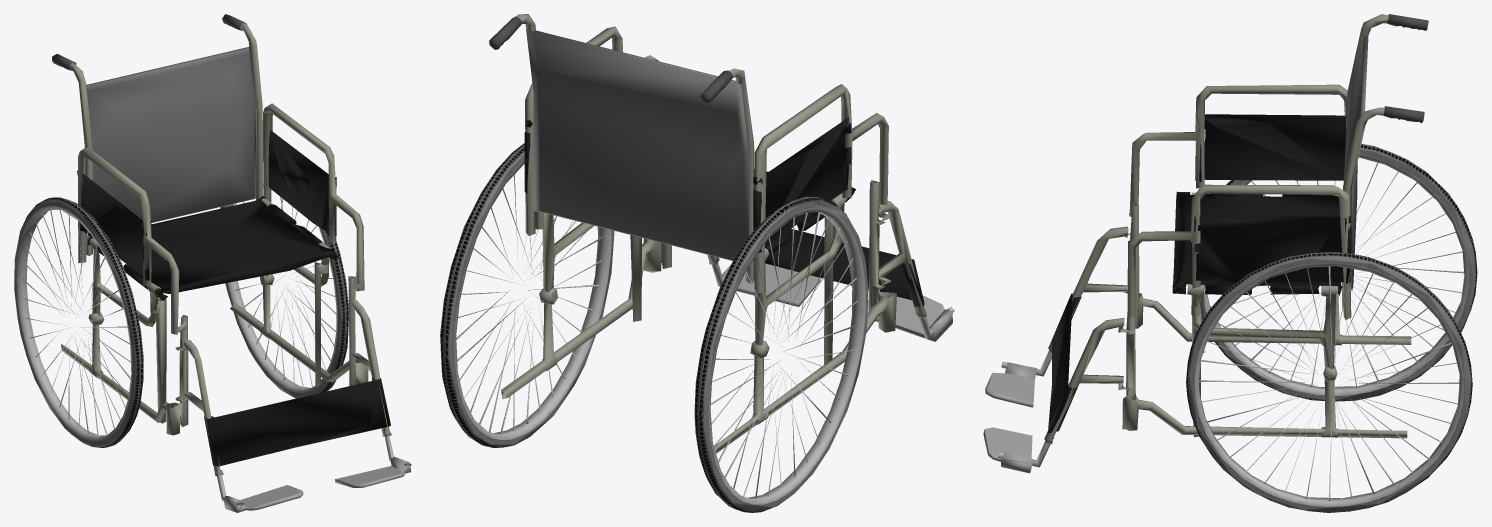
The model's file is wheel_chair.dae.
The picture shows the model from 3 angles, left to right: view 1: azimuth 30°, elevation 25°; view 2: azimuth 150°, elevation 25°; view 3: azimuth 270°, elevation 25°; orthographic projection. The views are drawn at different scales.
Visible parts, largest first — view 1: seatskin, backseat, bodyframe, rim, tyre, tyre2, pad2, pad1; view 2: backseat, bodyframe, rim, seatskin, tyre, tyre2, pad2, pad1, handle; view 3: seatskin, bodyframe, rim, tyre2, tyre, backseat, pad1, pad2, handle.
Boxes of the visible parts, <box> form: seatskin: <box>77,130,390,466</box>; backseat: <box>84,47,255,222</box>; bodyframe: <box>61,23,391,476</box>; rim: <box>16,159,411,506</box>; tyre: <box>14,197,143,447</box>; tyre2: <box>220,206,348,398</box>; pad2: <box>223,485,303,512</box>; pad1: <box>335,456,411,487</box>; backseat: <box>526,29,748,260</box>; bodyframe: <box>501,14,926,453</box>; rim: <box>454,160,954,504</box>; seatskin: <box>524,117,924,306</box>; tyre: <box>694,196,868,512</box>; tyre2: <box>440,143,614,447</box>; pad2: <box>867,295,952,341</box>; pad1: <box>722,263,820,306</box>; handle: <box>489,16,732,103</box>; seatskin: <box>1048,114,1351,433</box>; bodyframe: <box>1044,14,1411,443</box>; rim: <box>997,154,1468,506</box>; tyre2: <box>1186,252,1472,512</box>; tyre: <box>1204,144,1477,401</box>; backseat: <box>1343,35,1368,290</box>; pad1: <box>983,427,1033,473</box>; pad2: <box>985,362,1037,407</box>; handle: <box>1383,14,1428,123</box>.
Size of the model in its own units: 0.5631 by 0.9841 by 0.8724.
7 materials, 1 textured.
